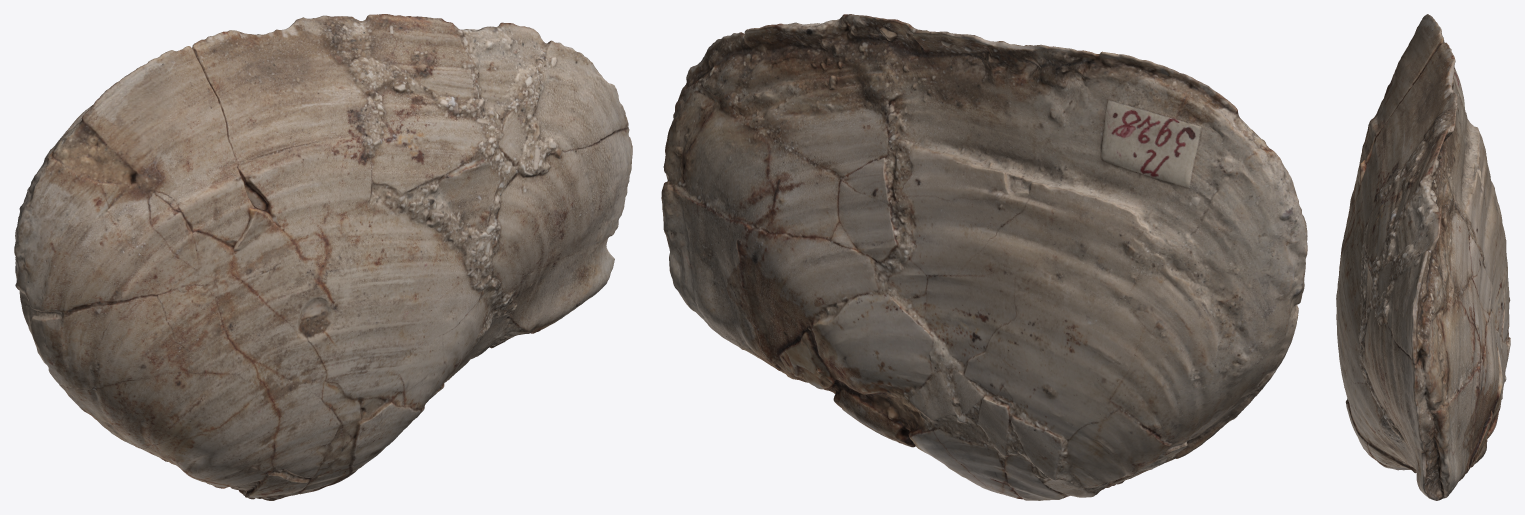
File: EWS0004003.glb
The picture shows the model from 3 angles, left to right: view 1: azimuth 30°, elevation 25°; view 2: azimuth 150°, elevation 25°; view 3: azimuth 270°, elevation 25°; orthographic projection. The views are drawn at different scales.
Parts seen in each view (by area): view 1: input; view 2: input; view 3: input.
Boxes of the visible parts, x1=… form: input: x1=14, y1=14, x2=632, y2=500; input: x1=661, y1=14, x2=1307, y2=500; input: x1=1336, y1=14, x2=1510, y2=500.
Bounding box in the file's own units: 0.0691 × 0.0489 × 0.0198.
1 material, 1 textured.
